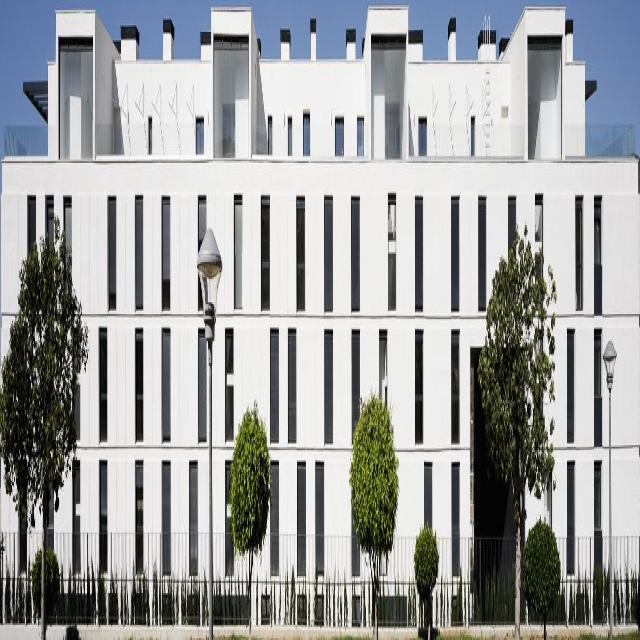window: (58, 33, 93, 153), (526, 36, 560, 159), (371, 39, 405, 153), (214, 38, 247, 154), (135, 191, 144, 309), (414, 190, 423, 306), (450, 325, 459, 440), (107, 191, 116, 305), (98, 322, 107, 436), (134, 454, 143, 568), (350, 193, 359, 306), (315, 458, 324, 569), (72, 455, 80, 569), (162, 192, 170, 306), (296, 193, 304, 306), (387, 187, 395, 300), (270, 324, 278, 436), (270, 457, 278, 569), (324, 326, 332, 438), (99, 456, 107, 566), (288, 325, 296, 435), (324, 193, 332, 303), (414, 327, 422, 437), (450, 193, 458, 303), (566, 459, 574, 569), (234, 196, 242, 304), (574, 196, 582, 304), (198, 327, 206, 434), (224, 453, 231, 567), (451, 457, 458, 571), (478, 192, 485, 305), (225, 323, 232, 435), (566, 327, 573, 439), (162, 323, 169, 434), (189, 457, 196, 568), (136, 325, 143, 435), (261, 194, 268, 304), (298, 459, 305, 569), (73, 333, 80, 437), (163, 457, 169, 567), (351, 328, 358, 420), (378, 331, 386, 401), (423, 456, 431, 521), (593, 463, 601, 523), (593, 333, 601, 392), (593, 193, 600, 258), (198, 192, 206, 240), (28, 191, 35, 245), (46, 194, 53, 240), (335, 114, 343, 153), (351, 531, 359, 570), (65, 192, 71, 243), (196, 115, 203, 150), (417, 117, 425, 147), (303, 110, 309, 149), (357, 112, 363, 149), (268, 113, 272, 148), (470, 115, 473, 151), (288, 114, 291, 148), (149, 113, 151, 150)
